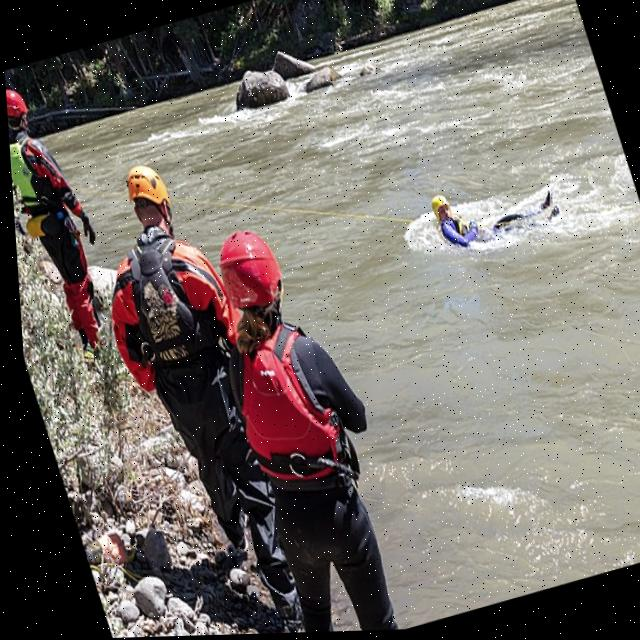rescuer: (60, 142, 343, 639), (167, 204, 436, 635), (5, 74, 137, 371), (420, 151, 570, 262)
